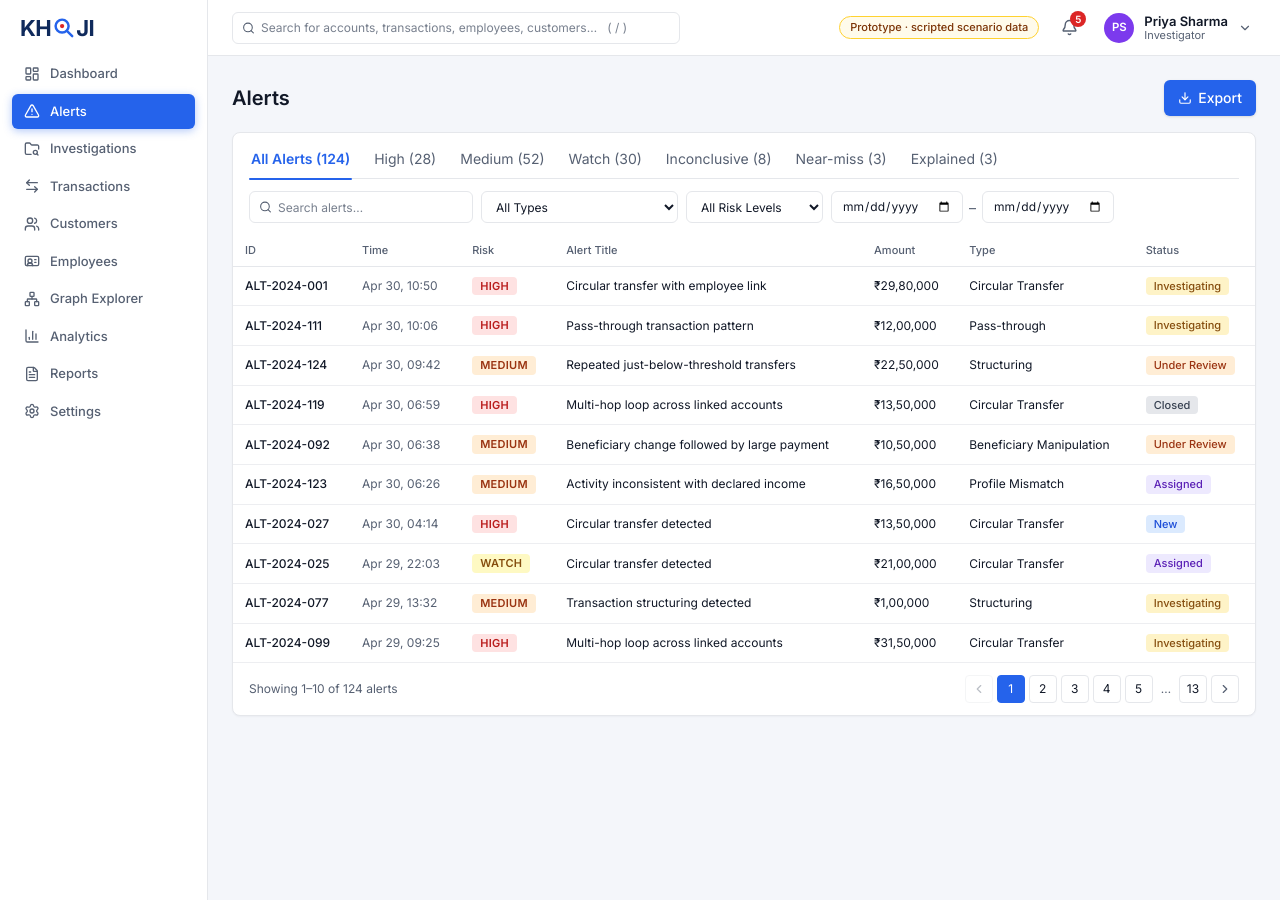
Test case: Alerts list › High tab shows 28 rows across 3 pages
What coordinates should you click on to do the following:
click the tab "High (28)"
I would click on:
 (405, 162)
Its box is left=372, top=145, right=438, bottom=179.
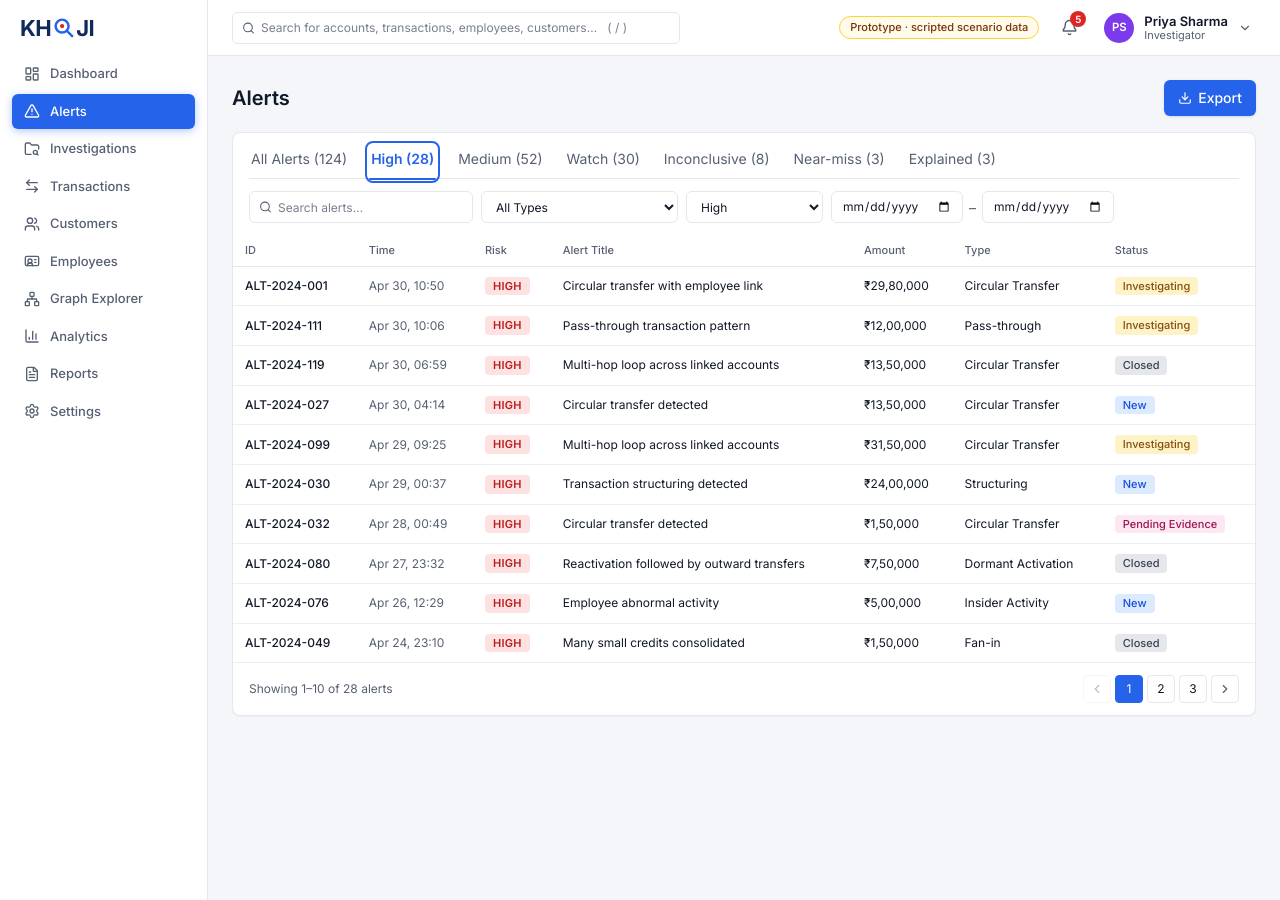
Expected: the button "3" is shown, left=1179, top=675, right=1207, bottom=703
Result: the text with test id "showing" shows "of 28 alerts" at left=249, top=681, right=393, bottom=696
